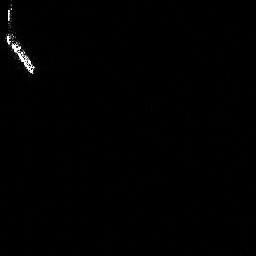ship: (2, 1, 39, 78)
